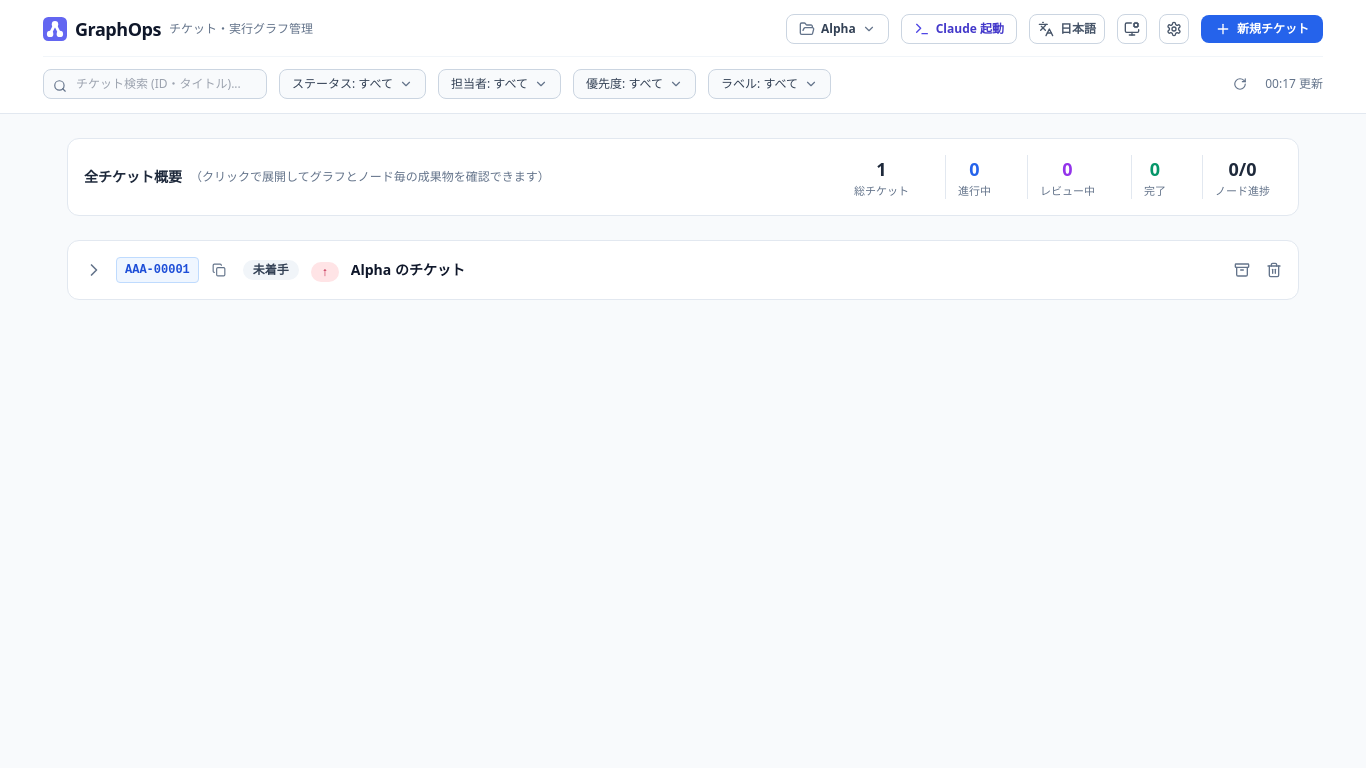
Test: project switcher accessibility › name, description and tooltip (DFLT-00285) › shows no tooltip while a popup opened by a mouse click is open, and one Escape closes it
Expected: the text "AAA-00001" is shown, [116,257,199,283]
Hover over the button "Alpha" at (837, 29), box [786,14,889,44]
Wait 300 ms
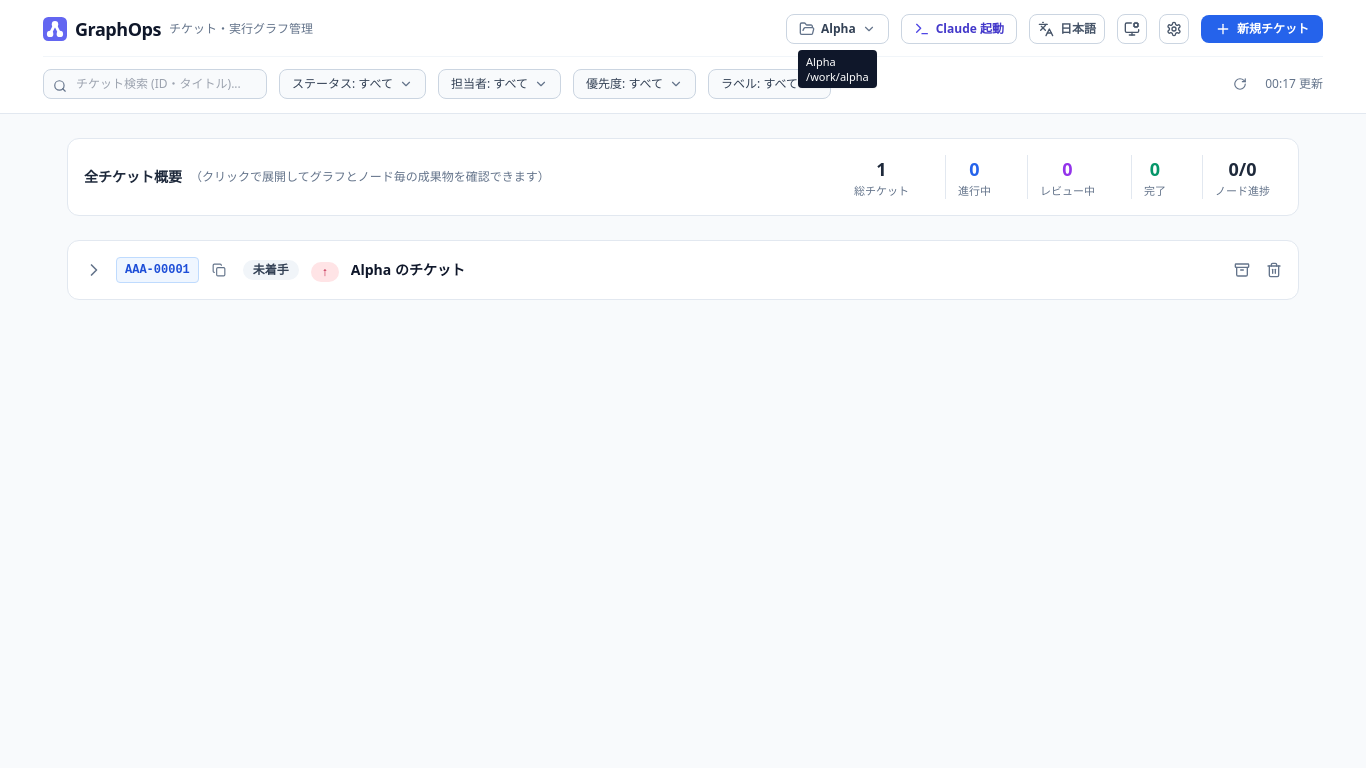
Result: the element showing "Alpha /work/alpha" is shown at [798,50,877,88]
Click the button "Alpha" at (837, 29), box [786,14,889,44]
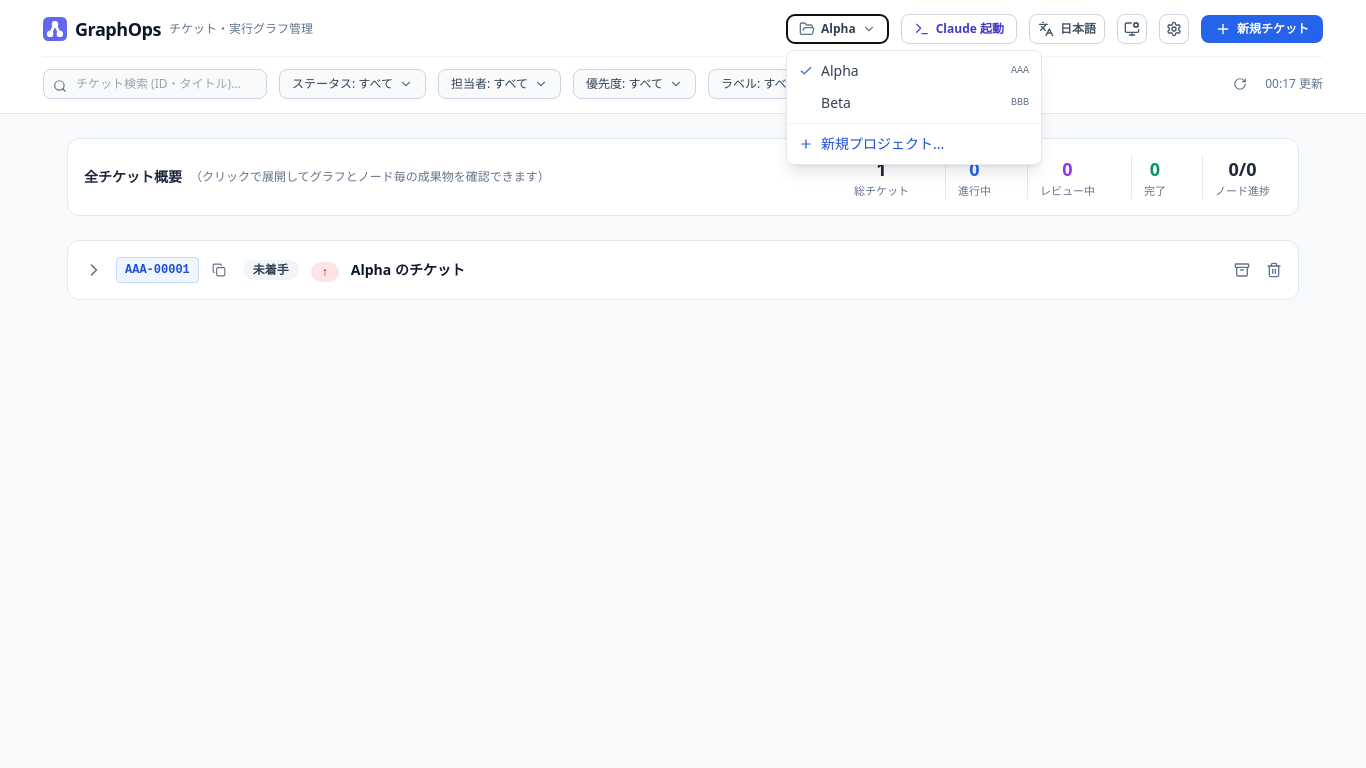
Result: the dialog named "プロジェクトの切り替え" is shown at [786,50,1042,165]
Press Escape
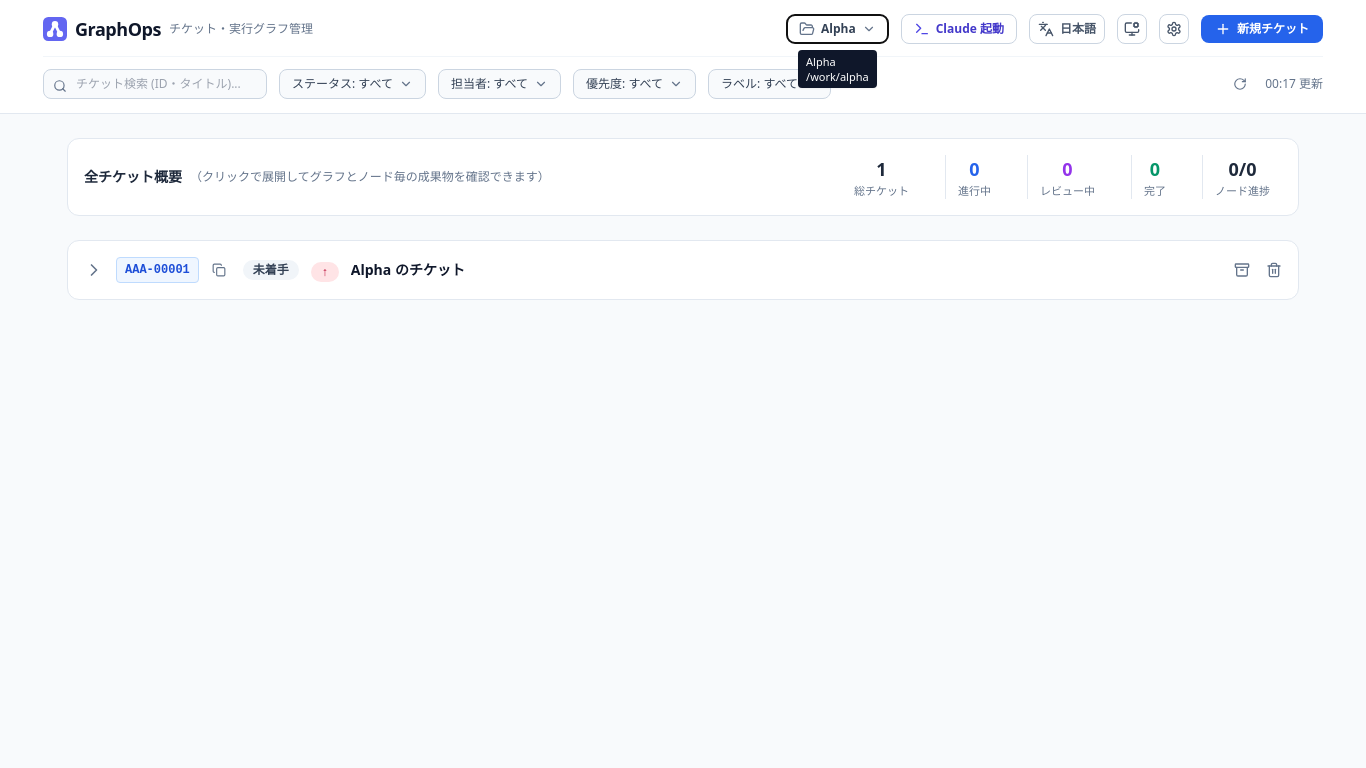
Result: the dialog "プロジェクトの切り替え" is gone
